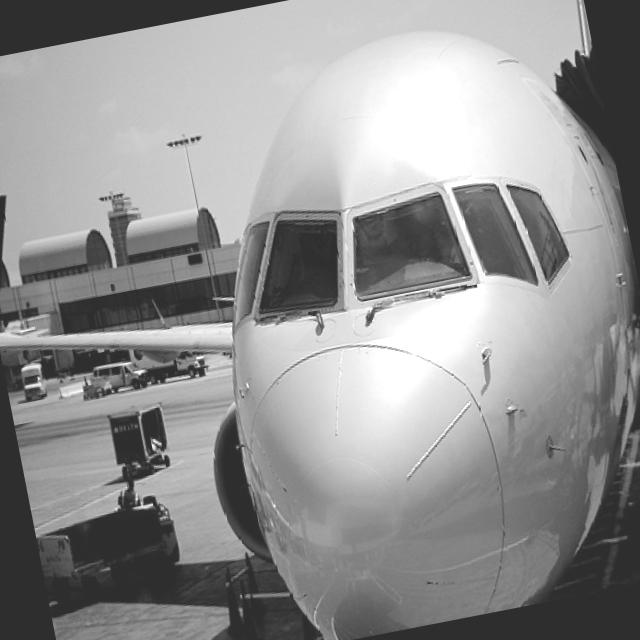Vehicle: (90, 357, 150, 399), (147, 348, 210, 387), (18, 360, 50, 402)
